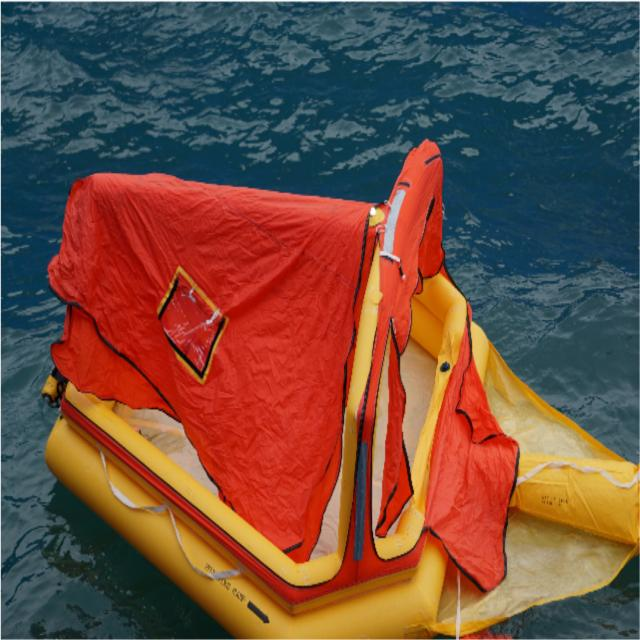Multi-person_life_raft: (41, 137, 639, 638)
